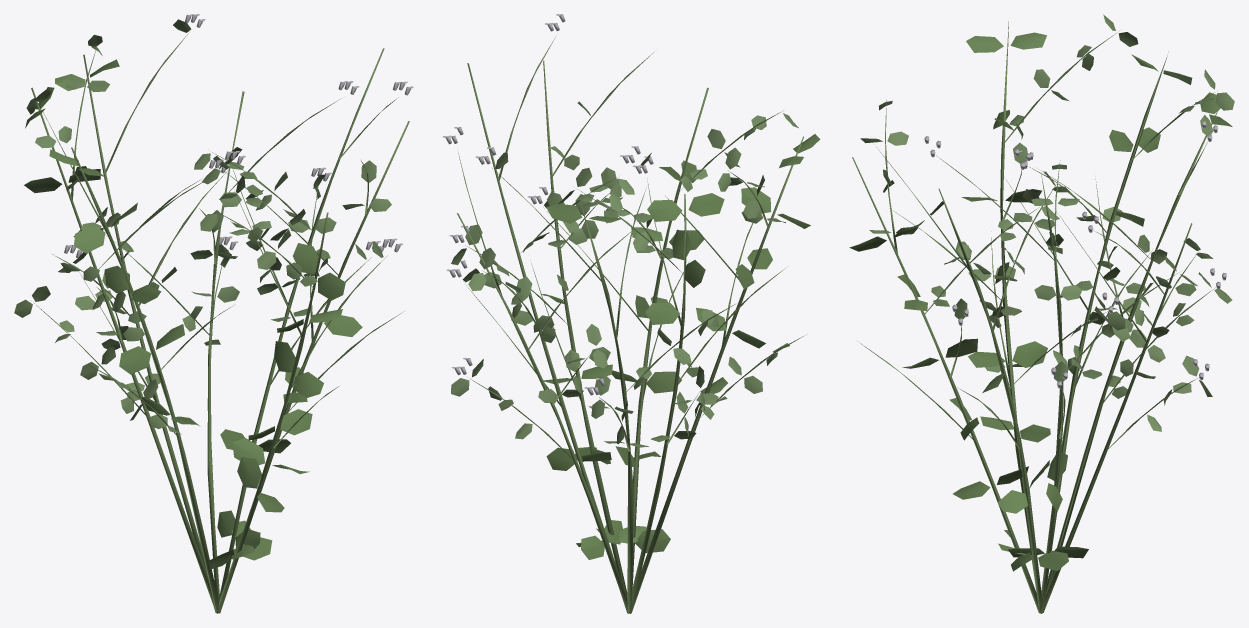
Rendered from Nepita_2_Niveau1.fbx.
3 renders of one model, left to right at view 1: azimuth 30°, elevation 25°; view 2: azimuth 150°, elevation 25°; view 3: azimuth 270°, elevation 25°, orthographic. The views are drawn at different scales.
Parts seen in each view (by area): view 1: Nepita_2_Niveau1; view 2: Nepita_2_Niveau1; view 3: Nepita_2_Niveau1.
Part boxes in pixels (x1,y1,x2,y2): Nepita_2_Niveau1: (14,14,413,613); Nepita_2_Niveau1: (442,14,820,613); Nepita_2_Niveau1: (849,14,1234,613).
Size of the model in its own units: 23.68 by 35.04 by 22.78.
